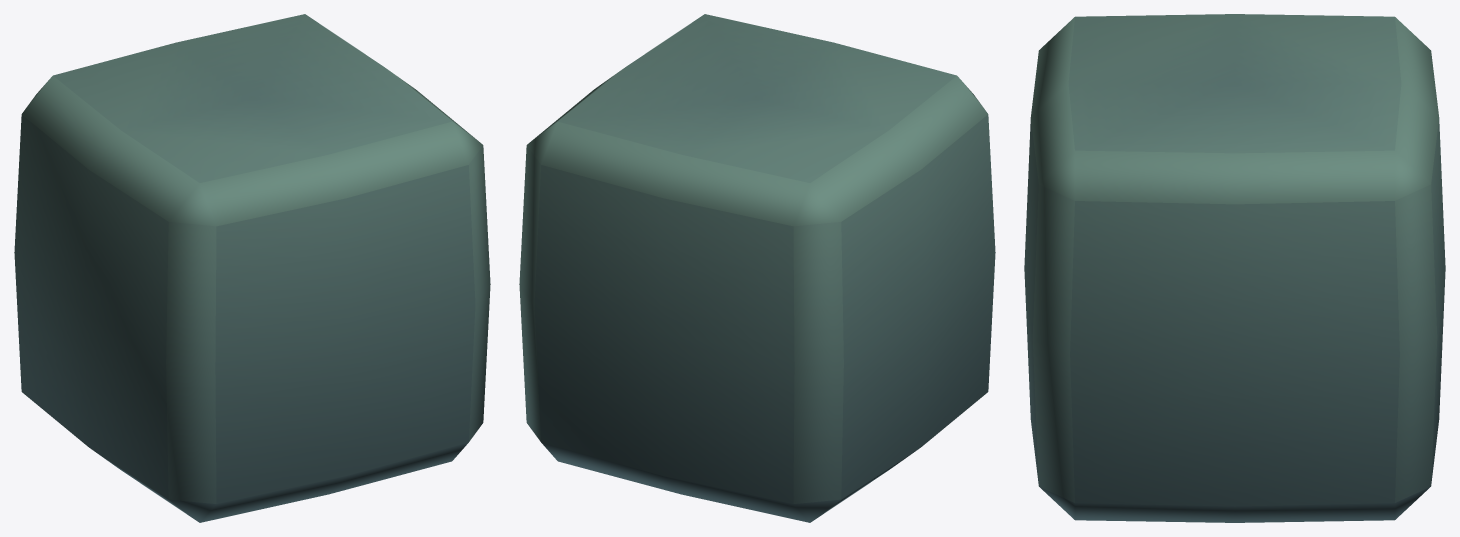
Rendered from cube_01_shade_2_LOD_setup.fbx.
The picture shows the model from 3 angles, left to right: view 1: azimuth 30°, elevation 25°; view 2: azimuth 150°, elevation 25°; view 3: azimuth 270°, elevation 25°; orthographic projection. The views are drawn at different scales.
Visible parts, largest first — view 1: cube_01_shade_2_LOD0; view 2: cube_01_shade_2_LOD0; view 3: cube_01_shade_2_LOD0.
Boxes of the visible parts, x1,y1,x2,y2 form: cube_01_shade_2_LOD0: (14,14,490,522); cube_01_shade_2_LOD0: (519,14,995,522); cube_01_shade_2_LOD0: (1024,14,1445,522).
Size of what is drawn, in the model's own units: 57.24 by 55.02 by 56.83.
